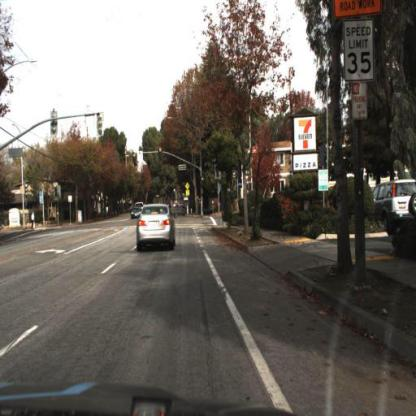car: (367, 176, 416, 232), (134, 202, 177, 250), (131, 205, 143, 224)
pedestrian: (29, 201, 37, 233)
trafficLight: (132, 149, 140, 169)
trafficLight-Red: (198, 170, 206, 191), (158, 144, 166, 164), (201, 175, 206, 190)
